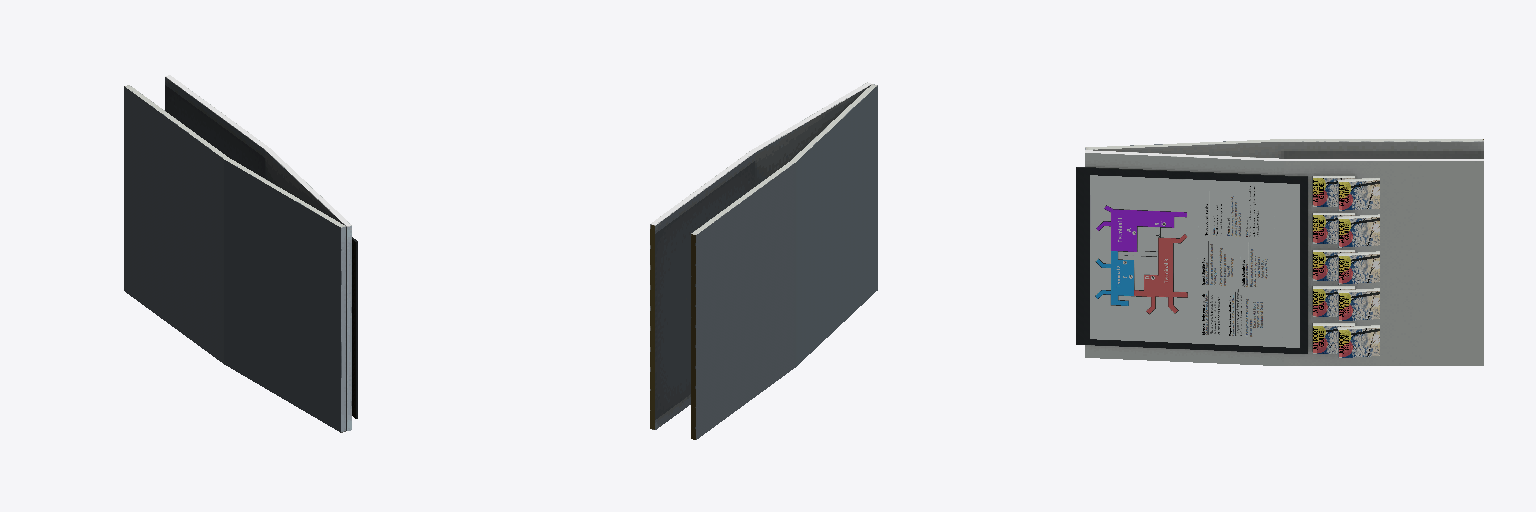
3 renders of one model, left to right at view 1: azimuth 30°, elevation 25°; view 2: azimuth 150°, elevation 25°; view 3: azimuth 270°, elevation 25°, orthographic.
Visible parts, largest first — view 1: DigitalKiosk; view 2: DigitalKiosk; view 3: DigitalKiosk.
Boxes of the visible parts, box(x1,y1,x2,y2) form: DigitalKiosk: box(124, 75, 357, 432); DigitalKiosk: box(650, 82, 877, 439); DigitalKiosk: box(1076, 139, 1483, 365).
Size of the model in its own units: 0.3342 by 1.1 by 1.97.
Materials: 1 (1 with a texture image).